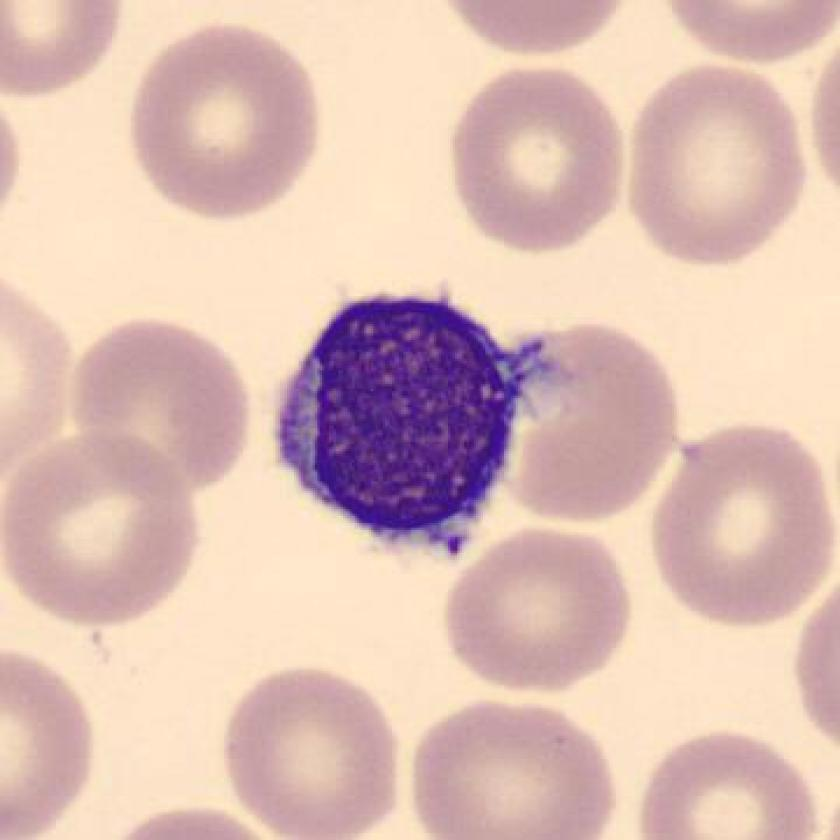lymphocyte: (251, 277, 575, 578)
